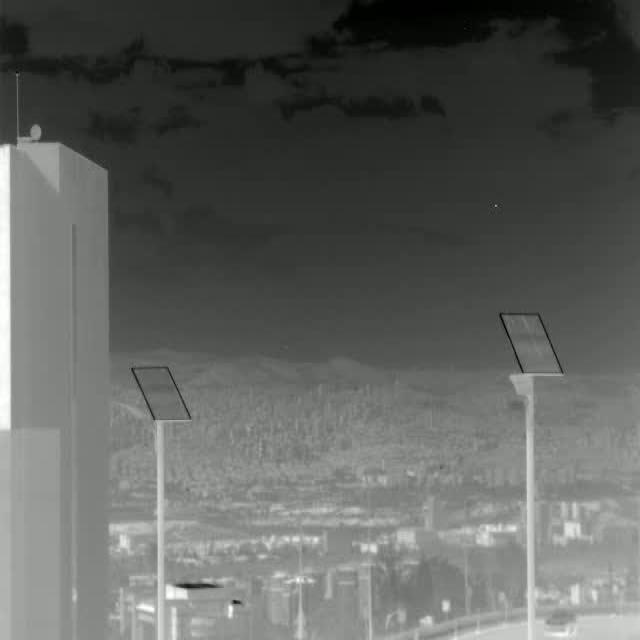Car: (544, 608, 580, 639)
